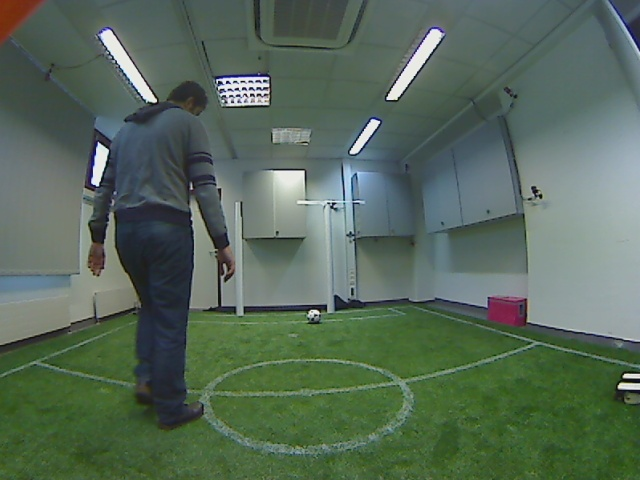ball: (301, 304, 327, 328)
